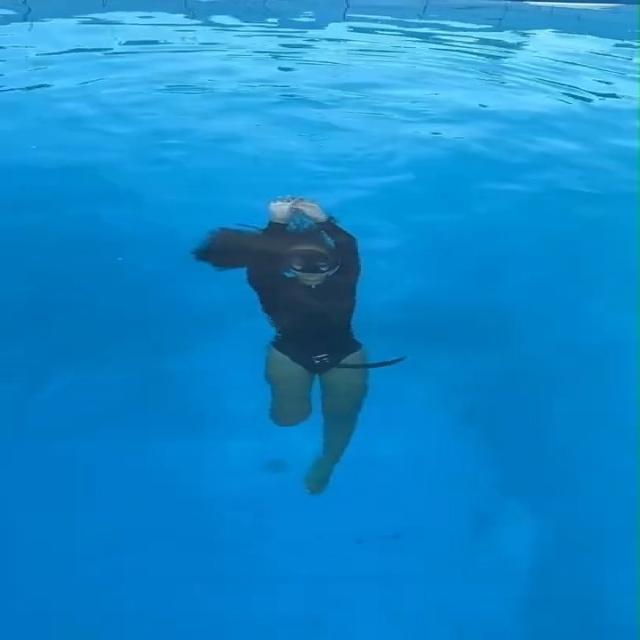Drowning: (188, 198, 412, 492)
